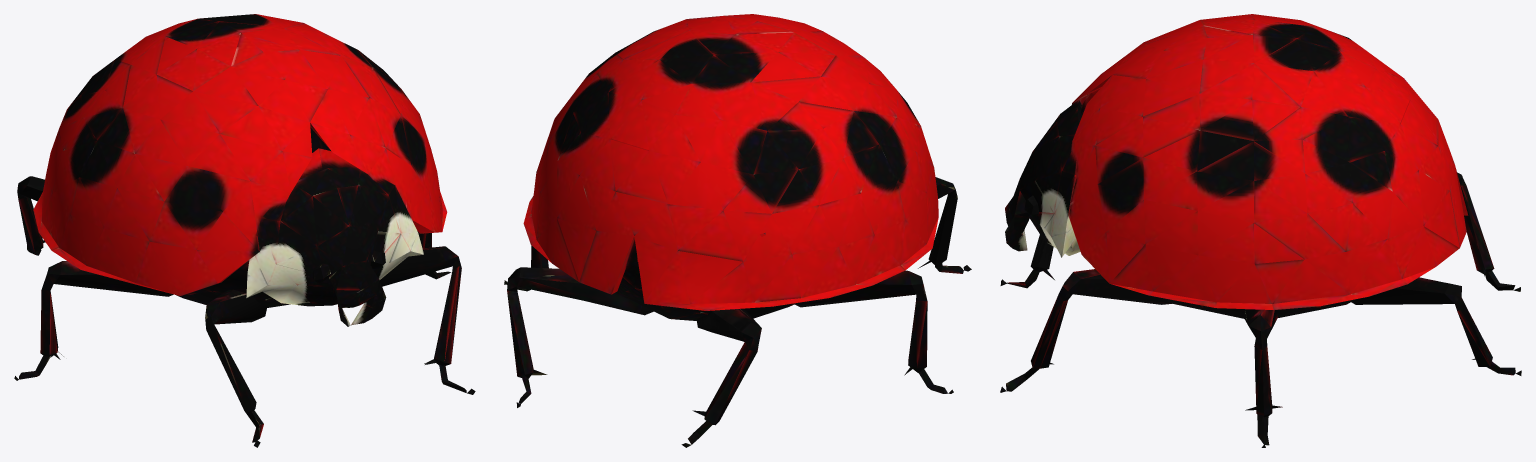
The model's file is ladybird.glb.
3 renders of one model, left to right at view 1: azimuth 30°, elevation 25°; view 2: azimuth 150°, elevation 25°; view 3: azimuth 270°, elevation 25°, orthographic. The views are drawn at different scales.
Parts seen in each view (by area): view 1: Mesh_0; view 2: Mesh_0; view 3: Mesh_0.
Part boxes in pixels (x1,y1,x2,y2): Mesh_0: (14,14,475,447); Mesh_0: (504,14,971,447); Mesh_0: (1000,14,1521,447).
Size of the model in its own units: 5 by 3.23 by 5.
Materials: 1 (1 with a texture image).
